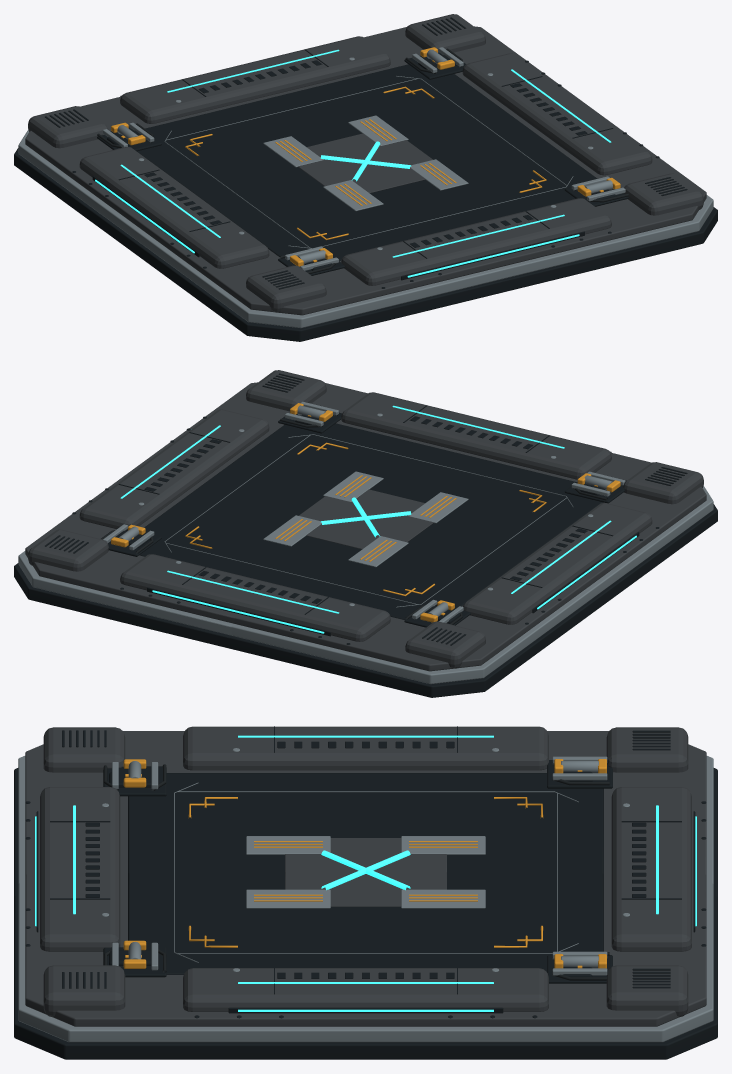
The model's file is dock.glb.
The picture shows the model from 3 angles, top to bottom: view 1: azimuth 30°, elevation 25°; view 2: azimuth 150°, elevation 25°; view 3: azimuth 270°, elevation 25°; orthographic projection. The views are drawn at different scales.
Parts seen in each view (by area): view 1: DockLandingDeck, DockUpperFrame, DockEdgeCassette.001, DockBase, DockPerimeter, DockEdgeCassette.002, DockEdgeCassette, DockCentralContact, DockCornerShoulder.001, DockCornerShoulder.002, DockGearContact.002, DockGearContact.003 (+4 smaller); view 2: DockLandingDeck, DockUpperFrame, DockEdgeCassette.001, DockBase, DockPerimeter, DockEdgeCassette, DockEdgeCassette.002, DockCentralContact, DockCornerShoulder.002, DockCornerShoulder.001, DockGearContact.003, DockGearContact.002 (+4 smaller); view 3: DockLandingDeck, DockUpperFrame, DockEdgeCassette.001, DockPerimeter, DockBase, DockEdgeCassette.002, DockEdgeCassette, DockCentralContact, DockCornerShoulder.001, DockCornerShoulder.002, DockGearContact.002, DockGearContact.003 (+12 smaller).
Part boxes in pixels (x1,y1,x2,y2): DockLandingDeck: (137,64,596,260); DockUpperFrame: (25,26,706,315); DockEdgeCassette.001: (79,53,652,268); DockBase: (14,148,717,341); DockPerimeter: (18,129,713,327); DockEdgeCassette.002: (120,36,390,123); DockEdgeCassette: (341,198,611,285); DockCentralContact: (298,133,432,193); DockCornerShoulder.001: (246,173,703,312); DockCornerShoulder.002: (28,14,485,148); DockGearContact.002: (323,159,468,211); DockGearContact.003: (263,115,408,167); DockLandingDeck: (139,423,603,619); DockUpperFrame: (25,382,706,671); DockEdgeCassette.001: (79,409,652,624); DockBase: (14,504,717,697); DockPerimeter: (18,485,713,683); DockEdgeCassette: (341,392,611,479); DockEdgeCassette.002: (120,554,390,641); DockCentralContact: (299,489,433,549); DockCornerShoulder.002: (28,529,485,668); DockCornerShoulder.001: (246,370,703,504); DockGearContact.003: (263,515,408,567); DockGearContact.002: (323,471,468,523); DockLandingDeck: (128,773,603,974); DockUpperFrame: (25,731,706,1026); DockEdgeCassette.001: (183,726,548,1011); DockPerimeter: (18,756,713,1042); DockBase: (14,768,717,1059); DockEdgeCassette.002: (611,787,691,951); DockEdgeCassette: (40,787,120,951); DockCentralContact: (285,838,446,906); DockCornerShoulder.001: (43,727,125,1016); DockCornerShoulder.002: (606,727,688,1016); DockGearContact.002: (246,836,330,908); DockGearContact.003: (401,836,485,908).
Bounding box in the file's own units: 5 × 0.41 × 5.
